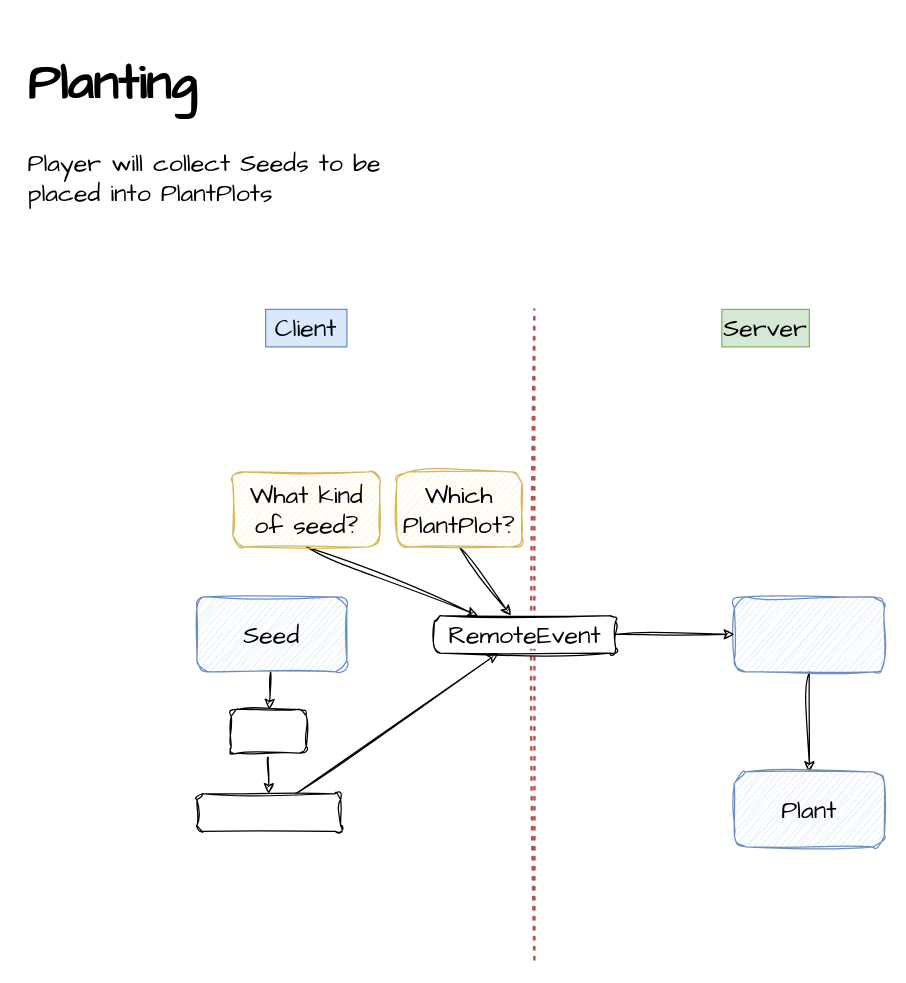
Some shapes in this 906 by 983 pixel diagram are drawn without their labels. Here are the shapes that lost their labels. From the top down, the centre of each, then its label:
At (x=808, y=634): "PlantPlot".
At (x=268, y=730): "Tool".
At (x=268, y=811): "Activated()".
